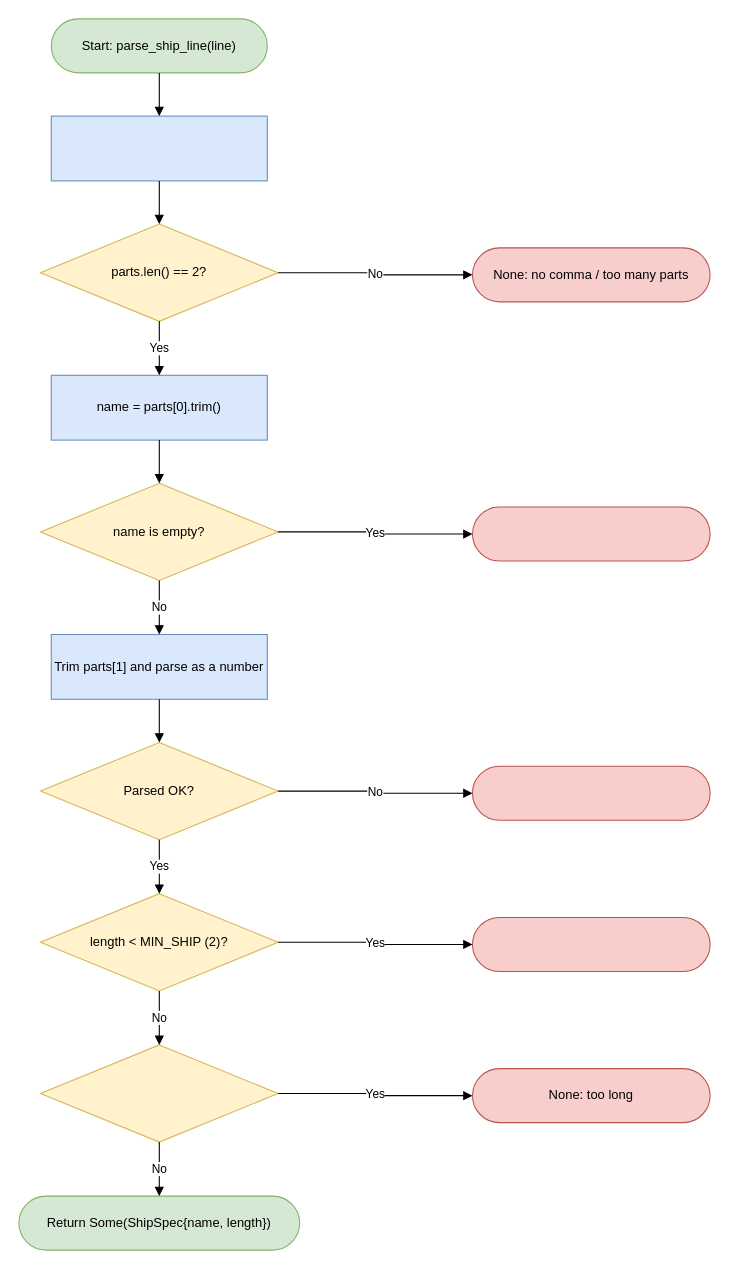
Image size: 729x1269. Some labels were removed from this diagram. The centre of each missing label's shape, as x and y in pixels:
"length > MAX_SHIP (5)?" belongs at (158,1093).
"None: empty name" belongs at (590,533).
"None: length not a number" belongs at (590,792).
"None: too short" belongs at (590,943).
"Split line on comma into parts" belongs at (158,148).
